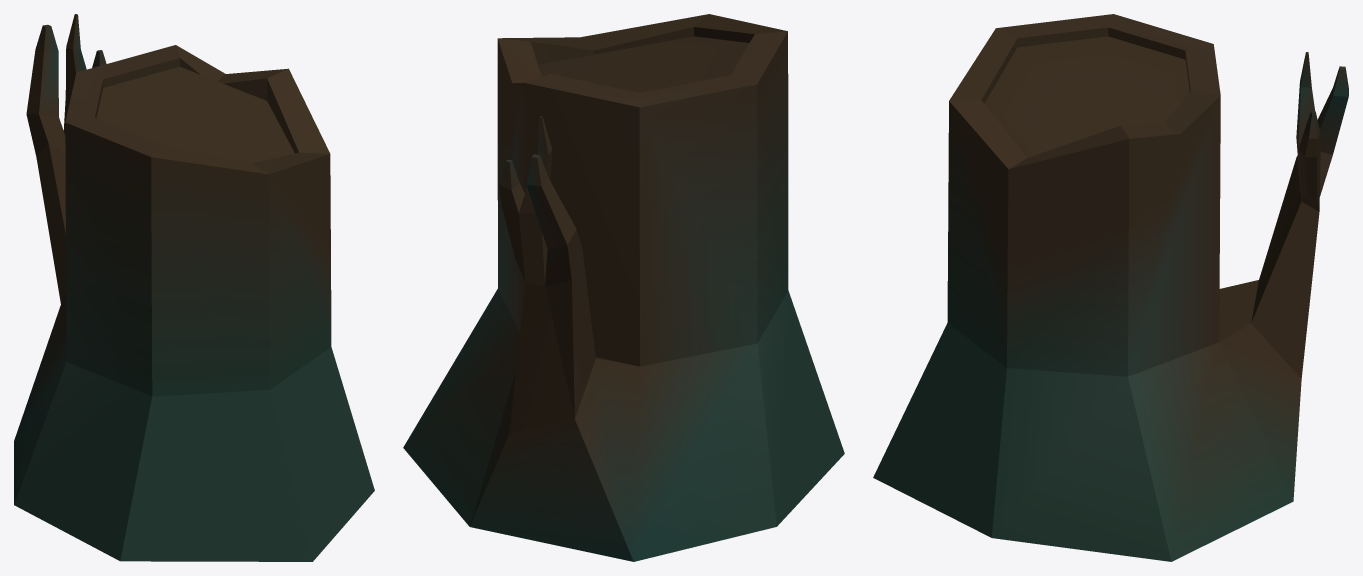
The model's file is trunk_1.fbx.
3 views of the same model, side by side, from view 1: azimuth 30°, elevation 25°; view 2: azimuth 150°, elevation 25°; view 3: azimuth 270°, elevation 25° (orthographic). The views are drawn at different scales.
Visible parts, largest first — view 1: Cylinder.001; view 2: Cylinder.001; view 3: Cylinder.001.
Boxes of the visible parts, left/top/right/bottom form: Cylinder.001: left=14, top=14, right=374, bottom=561; Cylinder.001: left=403, top=14, right=844, bottom=561; Cylinder.001: left=873, top=14, right=1348, bottom=561.
Size of the model in its own units: 192 by 222 by 232.
